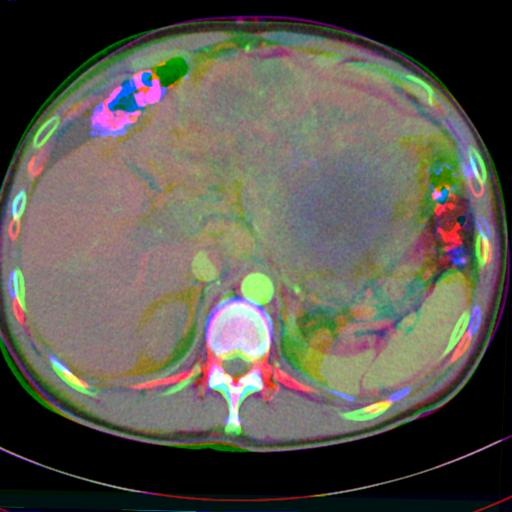Tumor: (178, 56, 326, 168)
